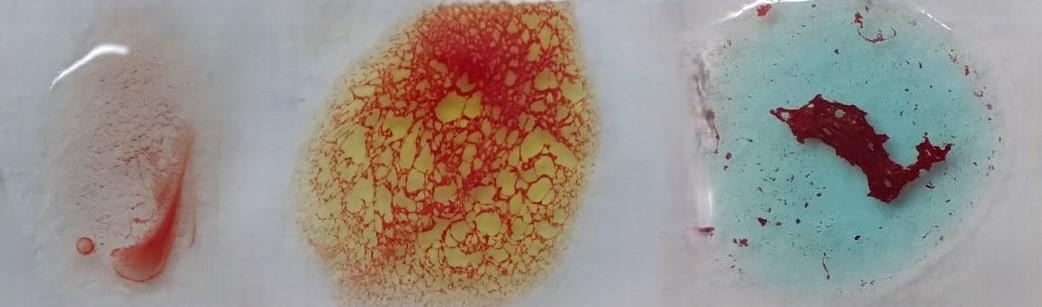A: (711, 7, 992, 291)
B: (339, 5, 587, 307)
D: (48, 34, 189, 294)
